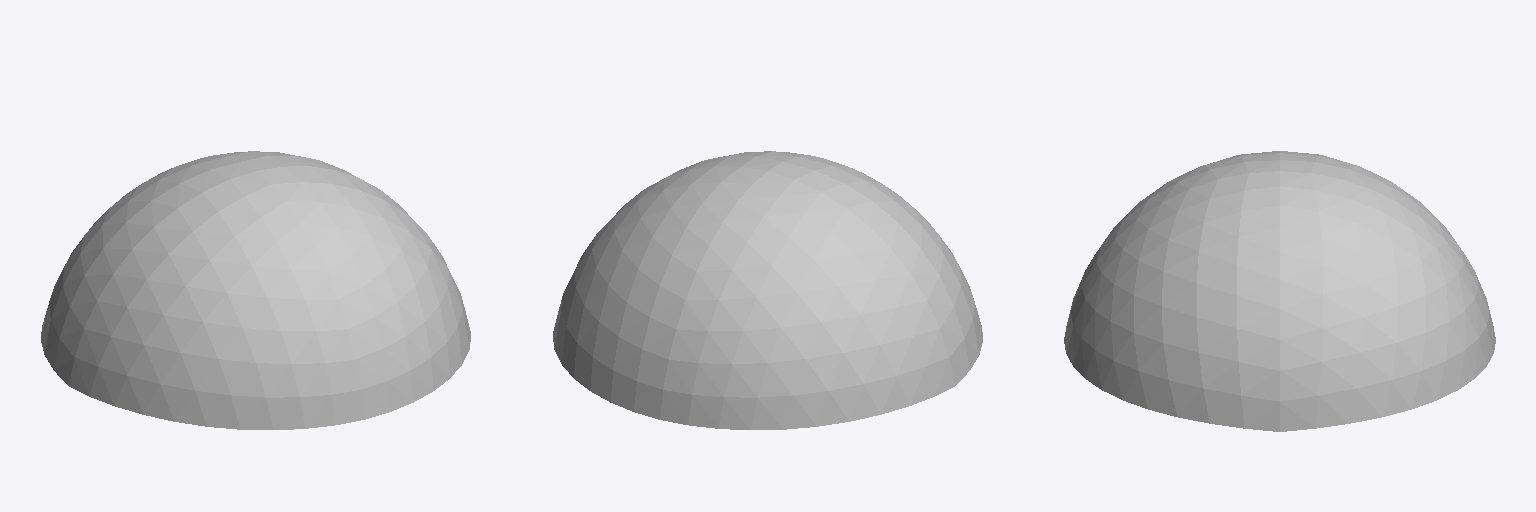
Rendered from lucht.obj.
The picture shows the model from 3 angles: view 1: azimuth 30°, elevation 25°; view 2: azimuth 150°, elevation 25°; view 3: azimuth 270°, elevation 25°; orthographic projection.
Visible parts, largest first — view 1: Skydome; view 2: Skydome; view 3: Skydome.
Part boxes in pixels (bbox=[...]): Skydome: bbox=[41, 151, 470, 429]; Skydome: bbox=[553, 151, 982, 429]; Skydome: bbox=[1064, 151, 1495, 431].
Size of the model in its own units: 617 by 267 by 617.